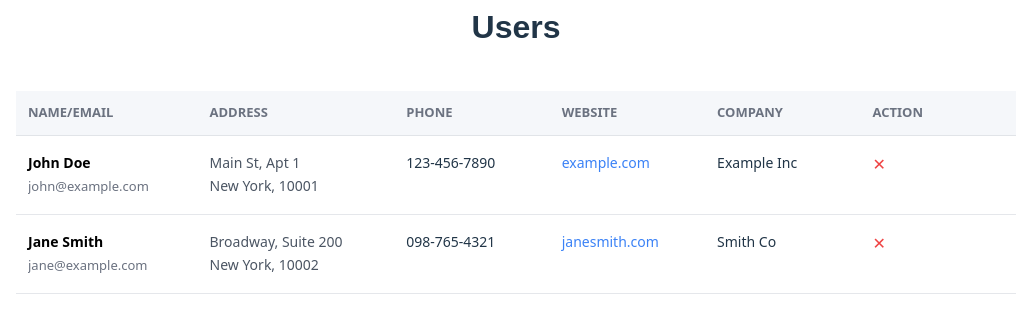
Scenario: App Component › should delete a user when delete button is clicked
Expected: the text "John Doe" is shown, [28, 153, 91, 172]
Expected: the text "Jane Smith" is shown, [28, 232, 103, 251]
Note: Click the delete button for the first user
Click the icon "✕" in the row of "John Doe" at (879, 164), box [872, 153, 886, 175]
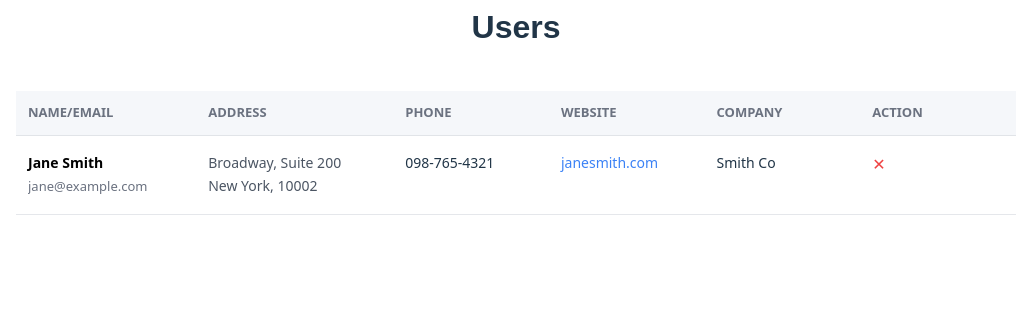
Expected: the text "Jane Smith" is shown, [28, 153, 103, 172]
Result: the text "John Doe" is gone
